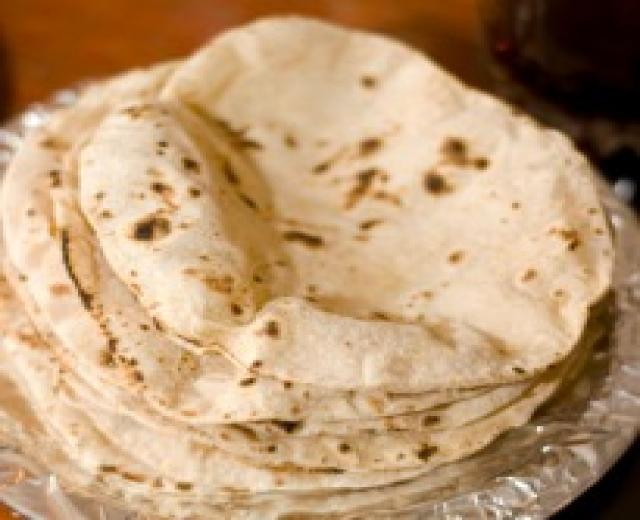chapati: (0, 18, 637, 515)
